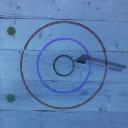Axe Tip: (74, 60, 86, 62)
